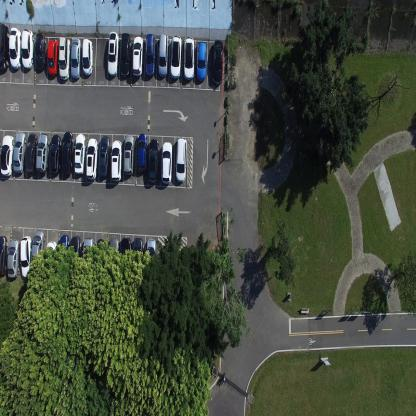car: (0, 134, 15, 177), (8, 26, 22, 70), (31, 230, 45, 274), (175, 136, 188, 183), (147, 137, 159, 185), (131, 34, 144, 78), (98, 134, 111, 178), (35, 132, 49, 172), (107, 30, 119, 76), (170, 34, 182, 79), (119, 32, 131, 77), (62, 130, 74, 175), (69, 234, 81, 279), (21, 28, 34, 69), (82, 237, 95, 278), (7, 237, 20, 278), (58, 36, 70, 80), (110, 139, 122, 182), (86, 137, 98, 180), (212, 39, 223, 85), (158, 32, 169, 78), (144, 32, 155, 78), (13, 131, 25, 173), (161, 140, 172, 185), (58, 233, 69, 278), (49, 133, 61, 174), (70, 36, 81, 80), (25, 133, 37, 173), (123, 134, 134, 177), (20, 235, 31, 278), (81, 37, 93, 76), (132, 237, 144, 276), (108, 236, 119, 278), (46, 38, 58, 76), (34, 32, 46, 70), (74, 133, 85, 174), (120, 237, 131, 278), (95, 238, 106, 279), (0, 23, 9, 73), (196, 41, 207, 81), (184, 36, 194, 80), (136, 132, 147, 172), (146, 239, 157, 279), (46, 240, 57, 280), (0, 235, 8, 277)
